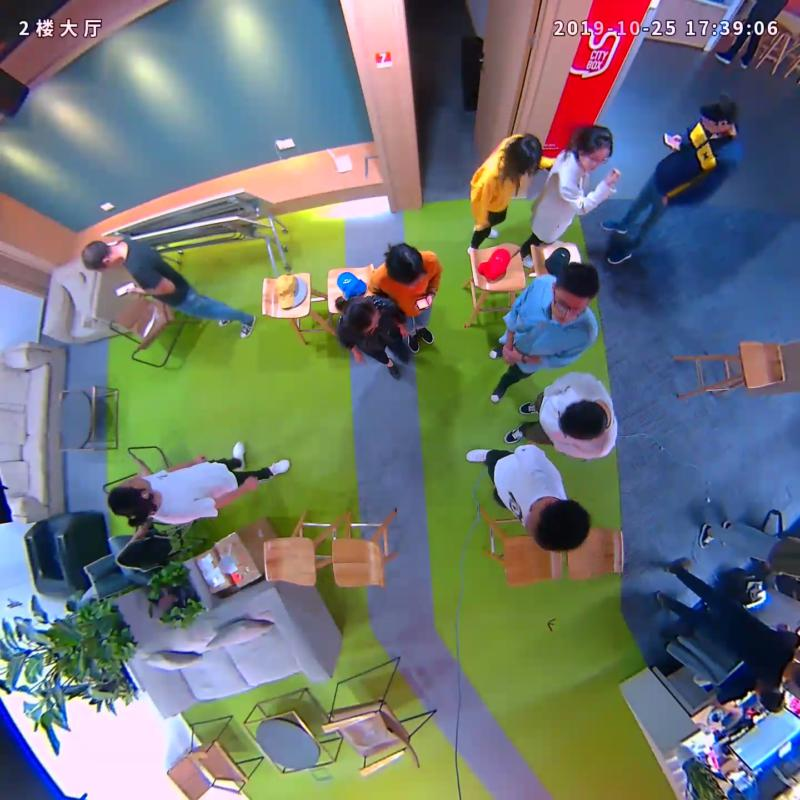head: (523, 497, 591, 552), (551, 264, 601, 324), (559, 399, 608, 442), (577, 125, 615, 173), (385, 241, 425, 286), (107, 477, 153, 516), (699, 93, 738, 135), (340, 295, 381, 333), (508, 132, 543, 176), (81, 239, 115, 271)
